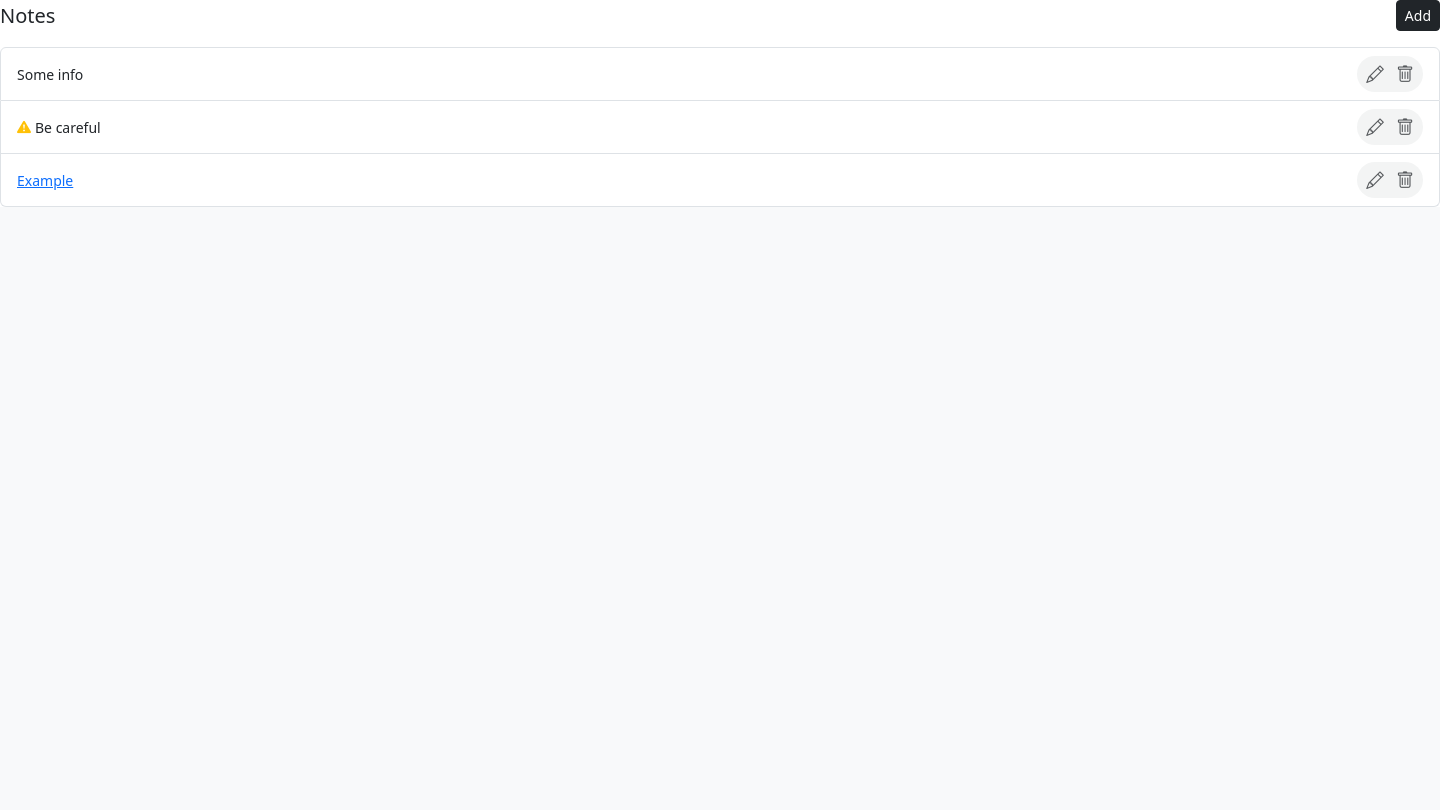
NotesSection › opens edit modal pre-populated when edit is clicked
The image size is (1440, 810).
What coordinates should you click on to do the following:
click the button named "Edit note 1"
I would click on:
 (1375, 74)
Its box is top-left (1357, 56), bottom-right (1393, 92).
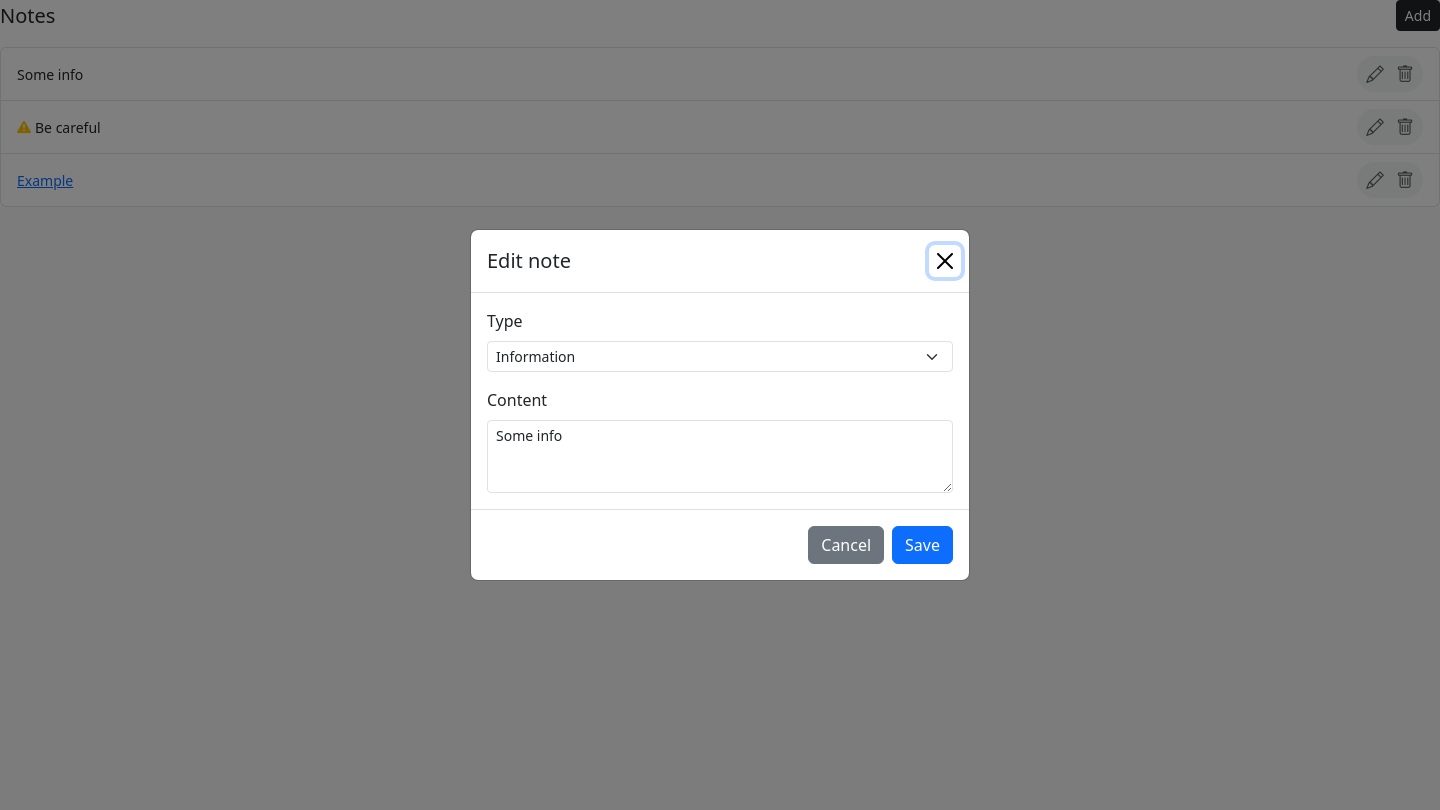
Expected: the dialog is shown, top-left (470, 229), bottom-right (970, 581)
Expected: the heading "Edit note" is shown, top-left (487, 246), bottom-right (571, 276)
Expected: the text box labelled "Content" holds "Some info", top-left (487, 420), bottom-right (953, 493)
